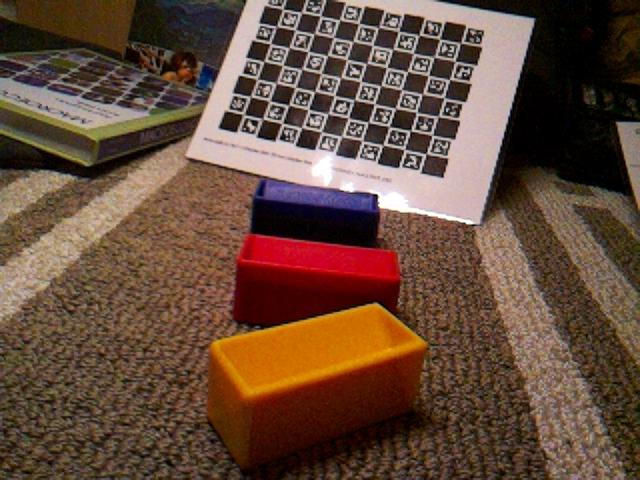blue: (249, 177, 382, 247)
red: (231, 231, 402, 327)
yellow: (205, 301, 430, 471)
